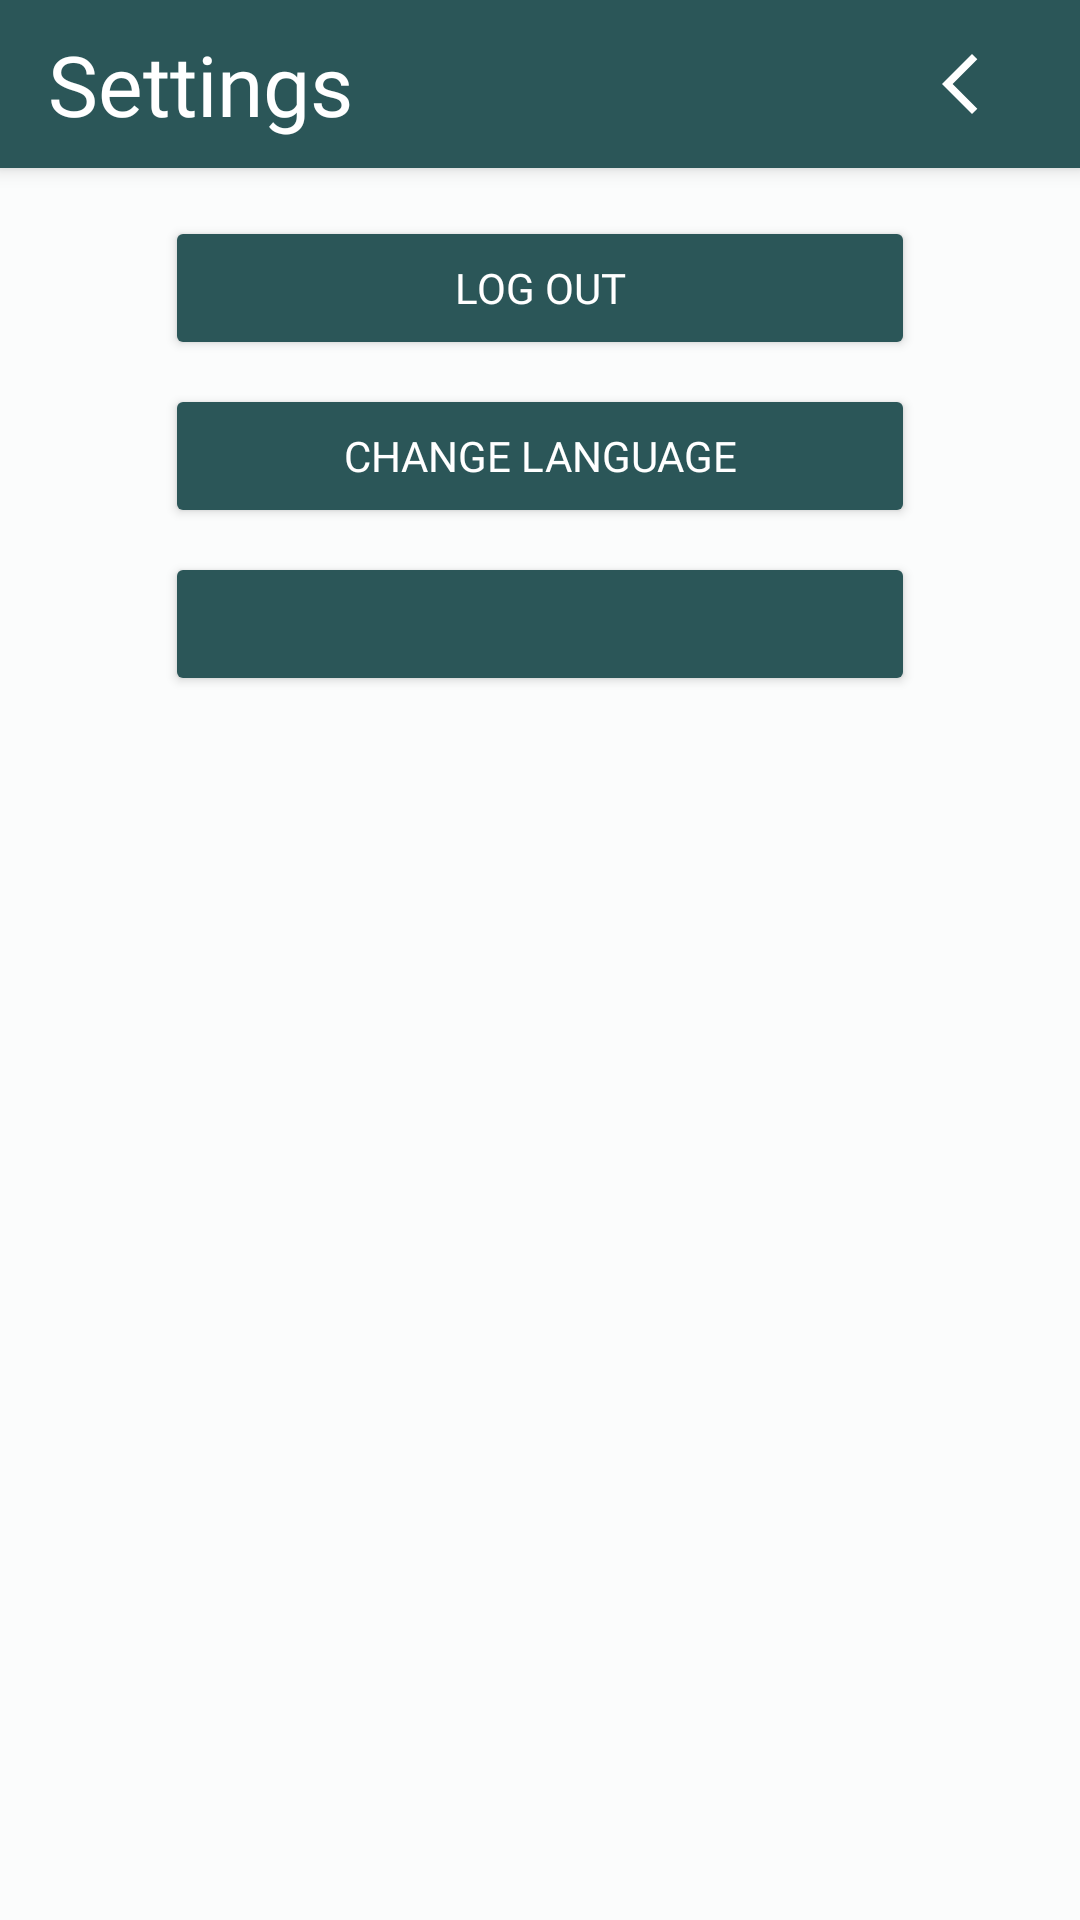

Screen size 1080 x 1920. Icon name, then its box in pixels as (x1, y1, x2, y2):
Back: (942, 54, 977, 114)
